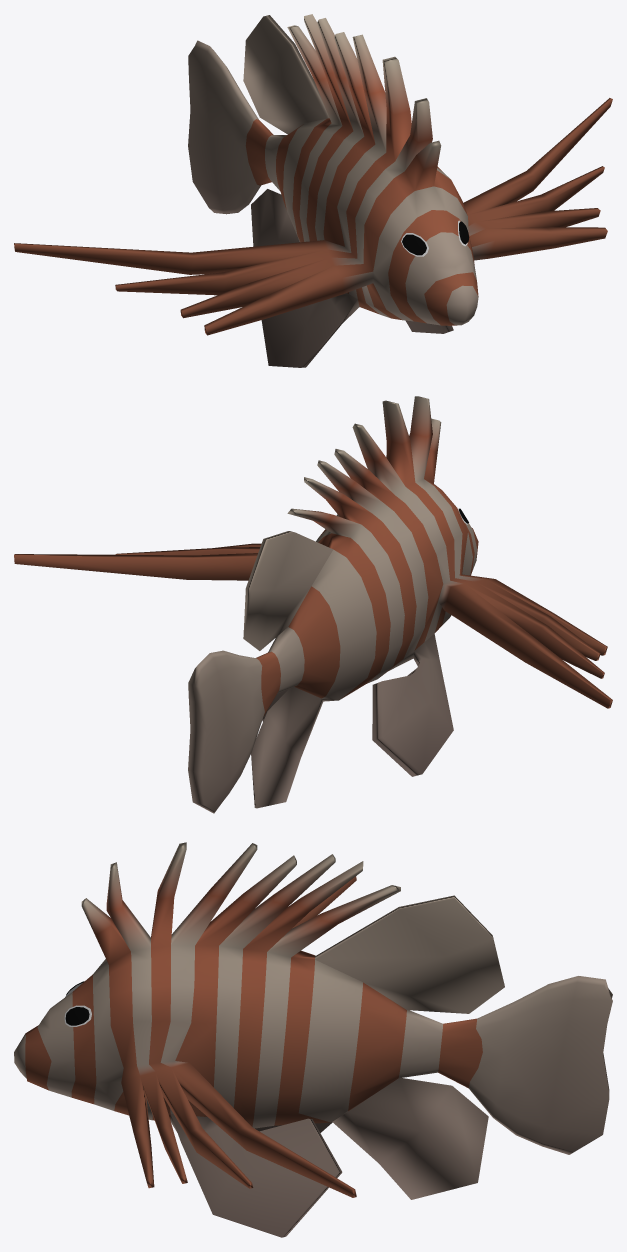
Rendered from underwater-fish-lionfish_v1.glb.
The picture shows the model from 3 angles, top to bottom: view 1: azimuth 30°, elevation 25°; view 2: azimuth 150°, elevation 25°; view 3: azimuth 270°, elevation 25°; orthographic projection. The views are drawn at different scales.
Parts seen in each view (by area): view 1: Lionfish; view 2: Lionfish; view 3: Lionfish.
Boxes of the visible parts, bbox=[...] form: Lionfish: bbox=[14, 14, 612, 367]; Lionfish: bbox=[14, 396, 612, 813]; Lionfish: bbox=[14, 842, 612, 1237].
Bounding box in the file's own units: 0.35 × 0.1814 × 0.2772.
